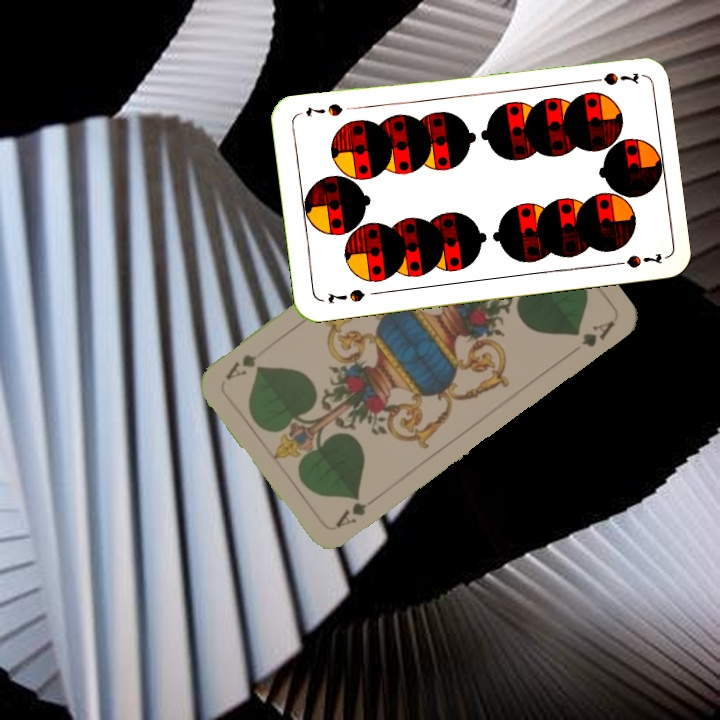GA: (331, 491, 382, 531)
S7: (583, 68, 641, 88), (323, 285, 367, 306)
